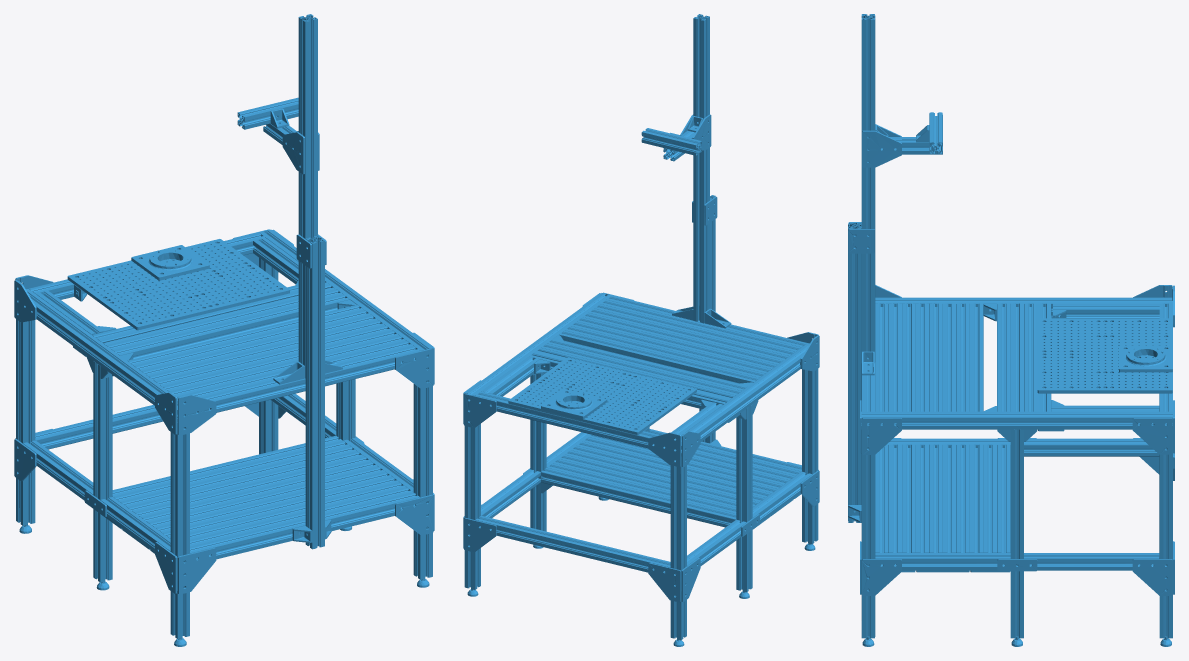
File: frame.dae
3 views of the same model, side by side, from view 1: azimuth 30°, elevation 25°; view 2: azimuth 150°, elevation 25°; view 3: azimuth 270°, elevation 25° (orthographic). The views are drawn at different scales.
Parts seen in each view (by area): view 1: Unnamed-VentionAssembly_263942_v223; view 2: Unnamed-VentionAssembly_263942_v223; view 3: Unnamed-VentionAssembly_263942_v223.
Part boxes in pixels (x1,y1,x2,y2): Unnamed-VentionAssembly_263942_v223: (14, 14, 434, 646); Unnamed-VentionAssembly_263942_v223: (463, 14, 819, 646); Unnamed-VentionAssembly_263942_v223: (848, 14, 1174, 646).
Size of the model in its own units: 0.9576 by 1.09 by 2.1.
